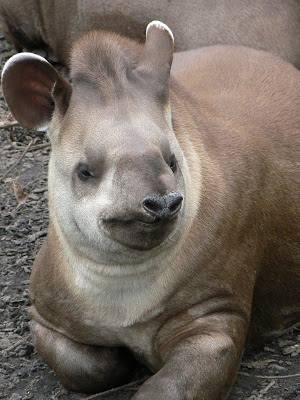Anta: (3, 20, 292, 397)
